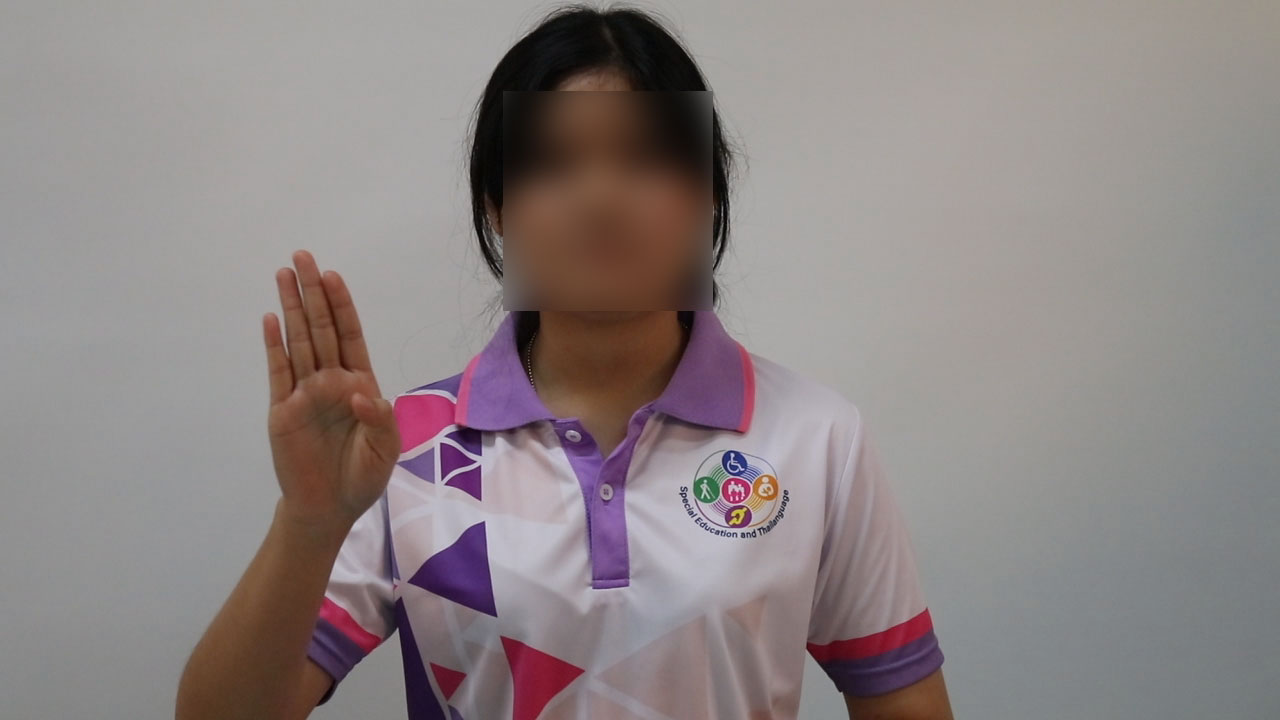bor: (240, 236, 417, 553)
